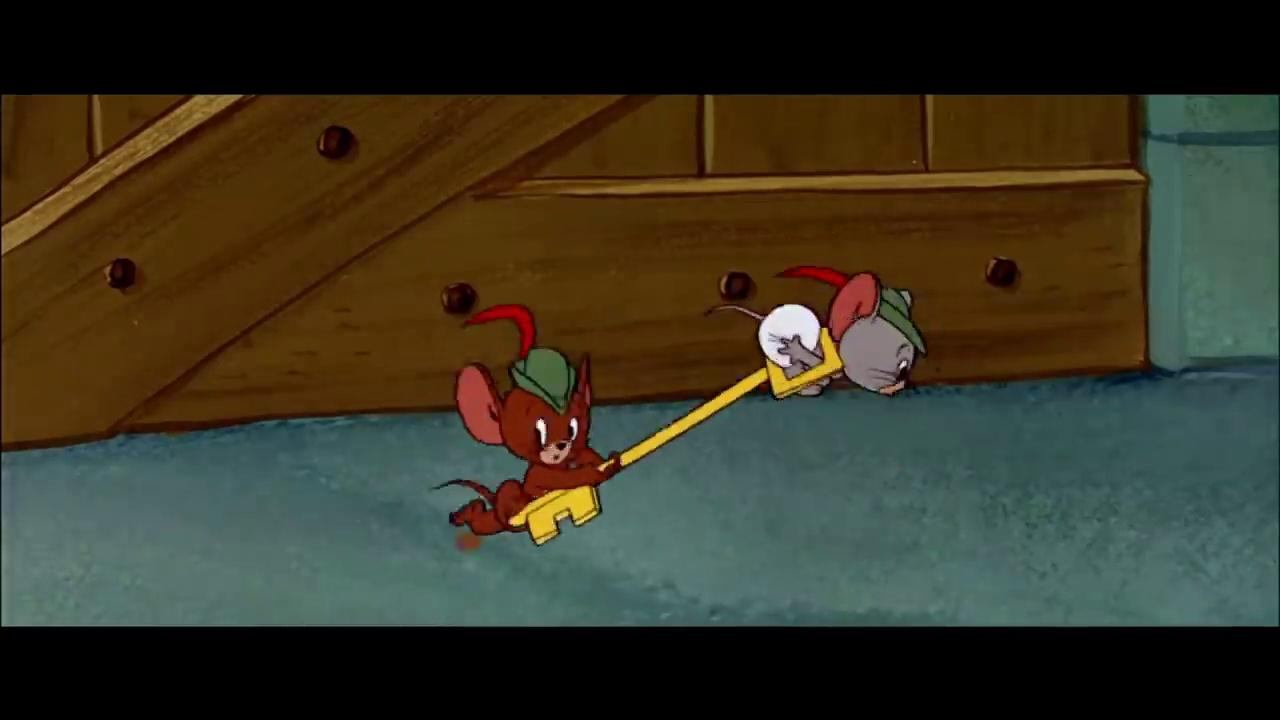Jerry: (430, 350, 624, 538)
